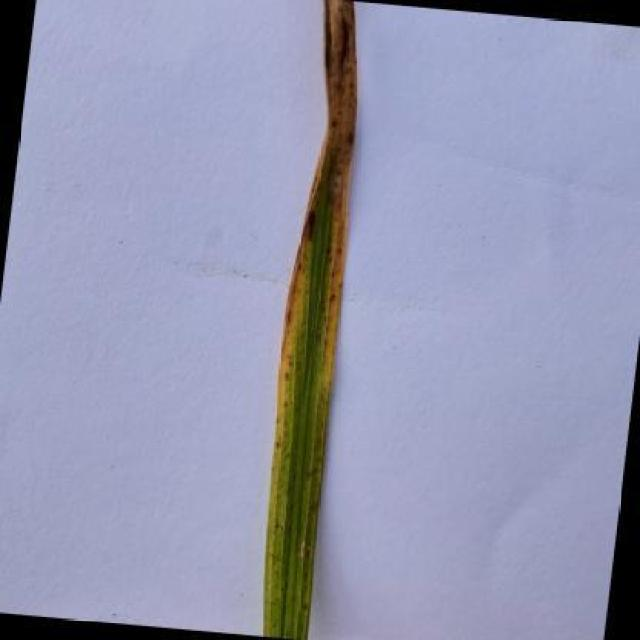Rice False Smut: (264, 0, 357, 640)
